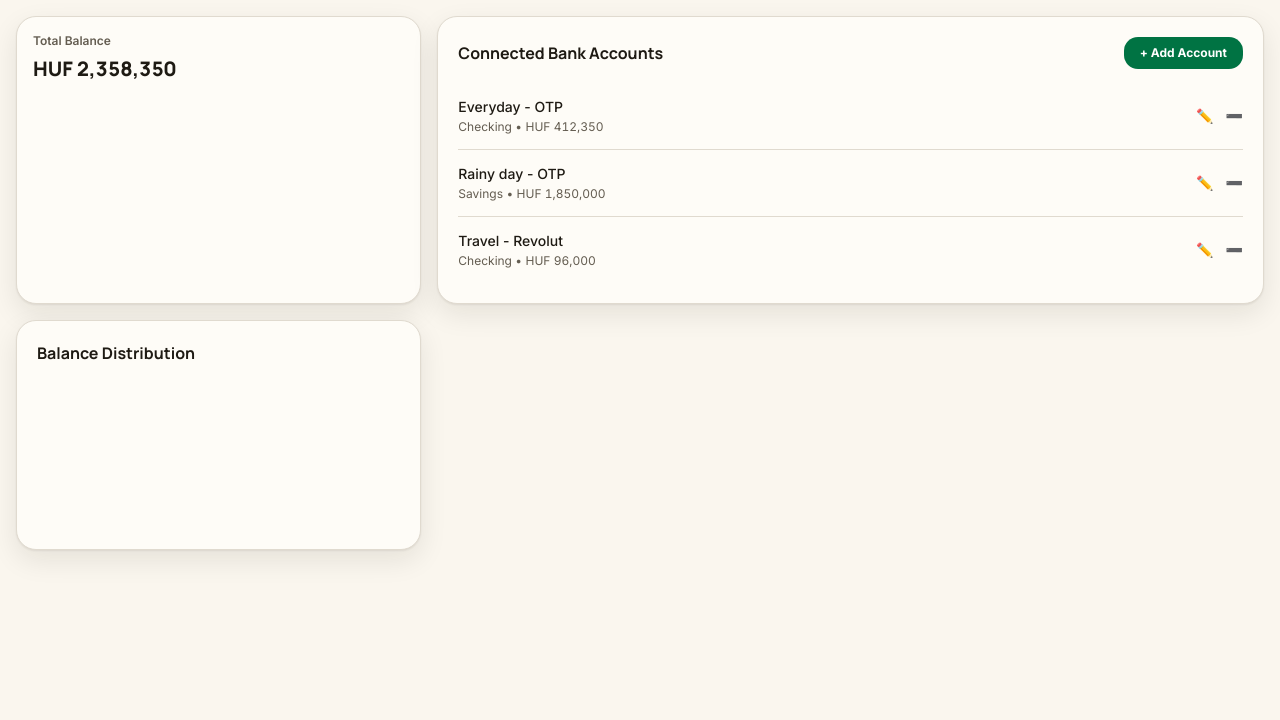
it: BankAccounts › adds an account through the modal, refetches, and closes it
Click the button "+ Add Account" at (1183, 53), box [1124,37,1243,69]
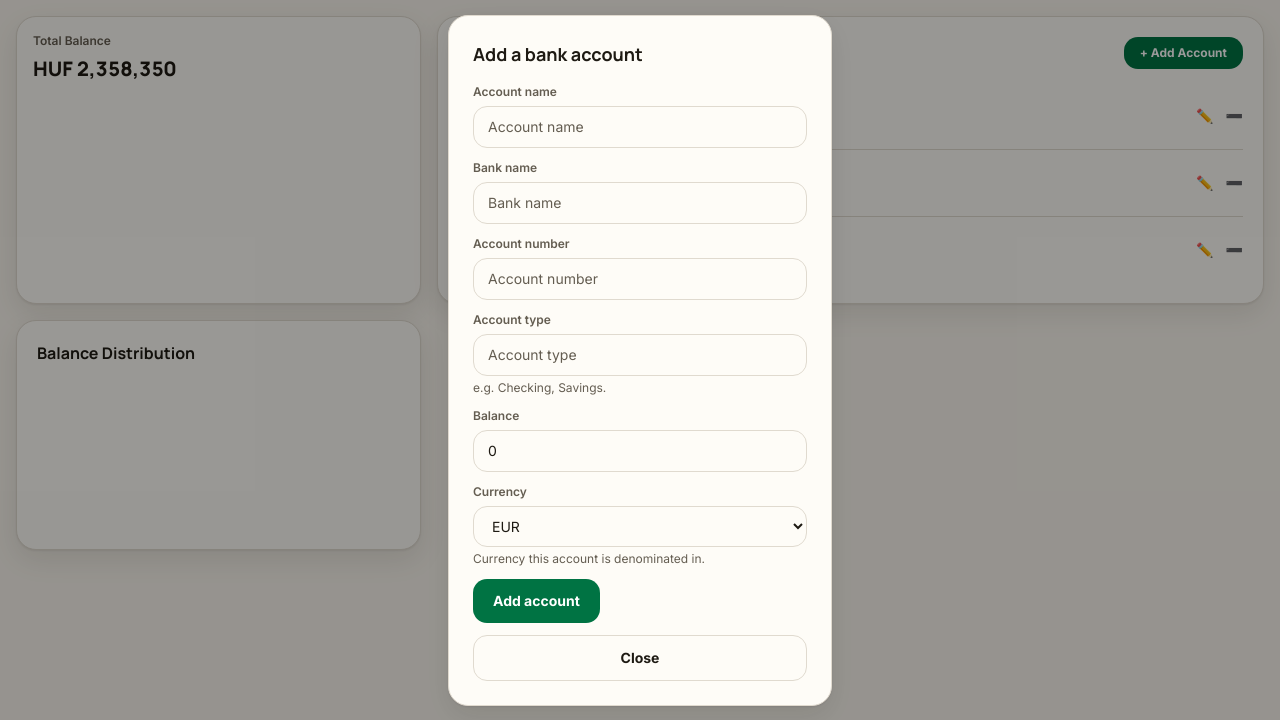
Type "New account" into the field with placeholder "Account name" at (640, 126), box [473,106,807,148]
Type "Bank" into the field with placeholder "Bank name" at (640, 202), box [473,182,807,224]
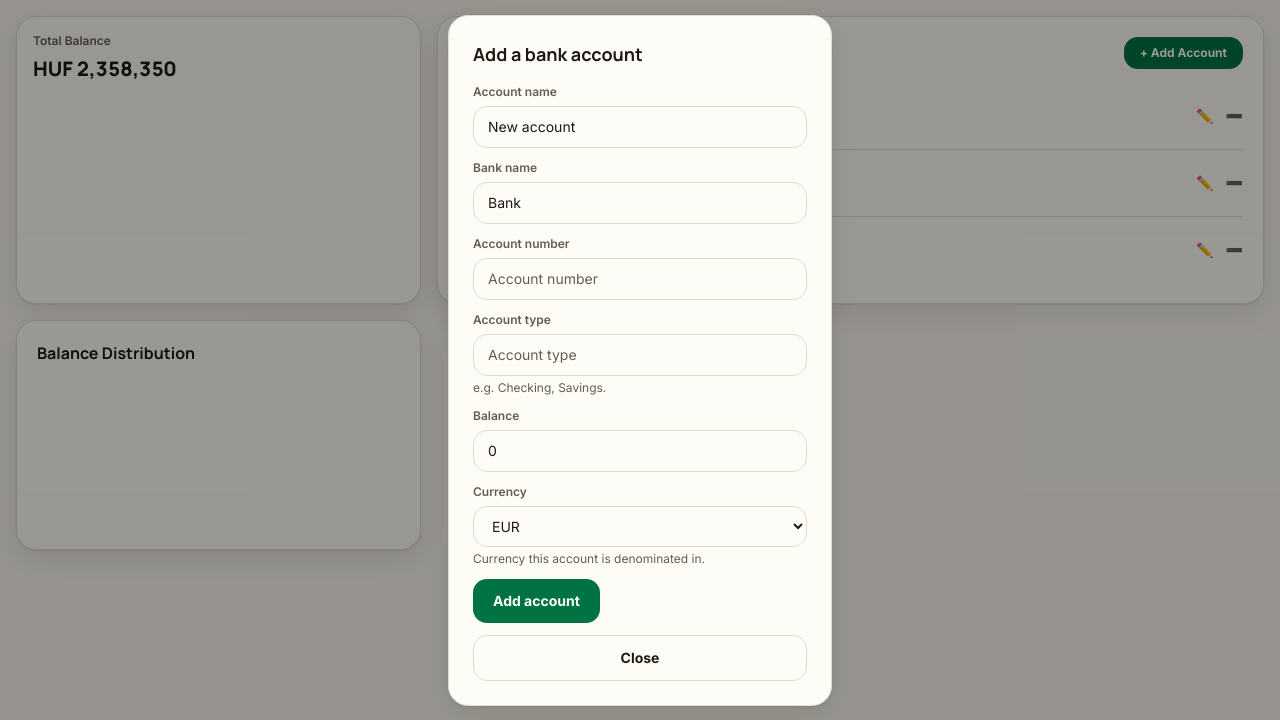
Type "123" into the field with placeholder "Account number" at (640, 278), box [473,258,807,300]
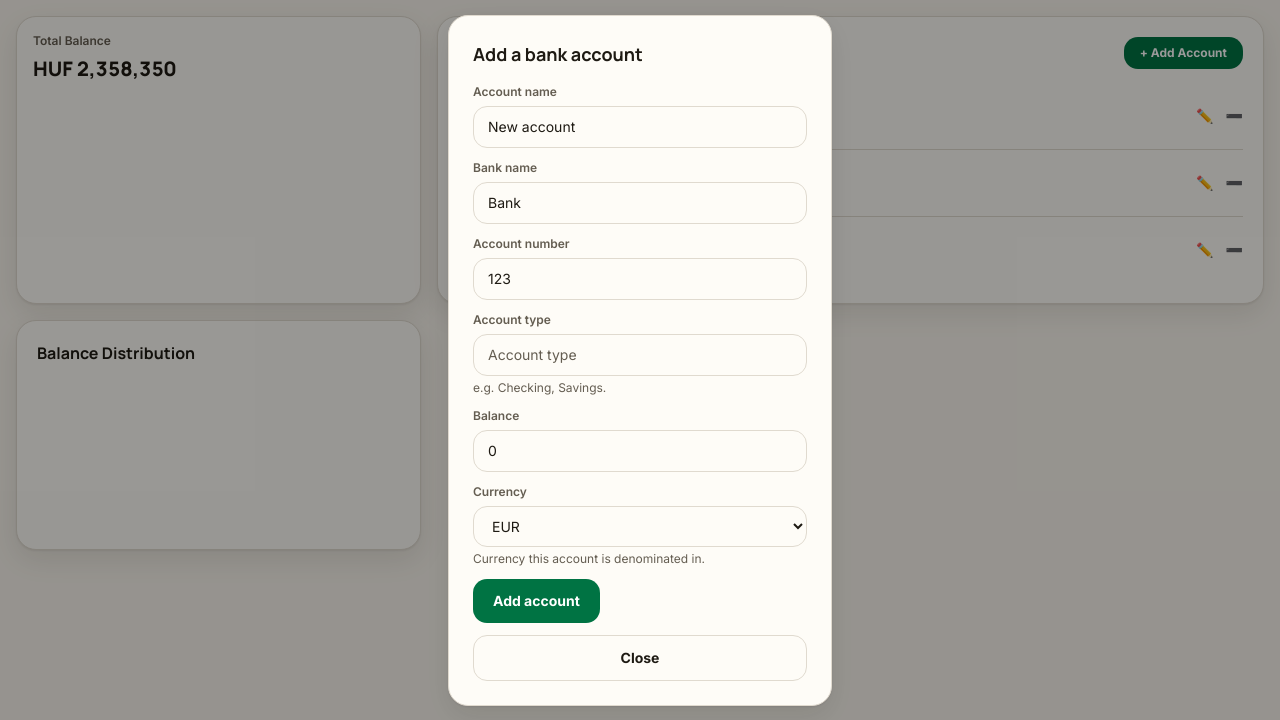
Type "Checking" into the field with placeholder "Account type" at (640, 354), box [473,334,807,376]
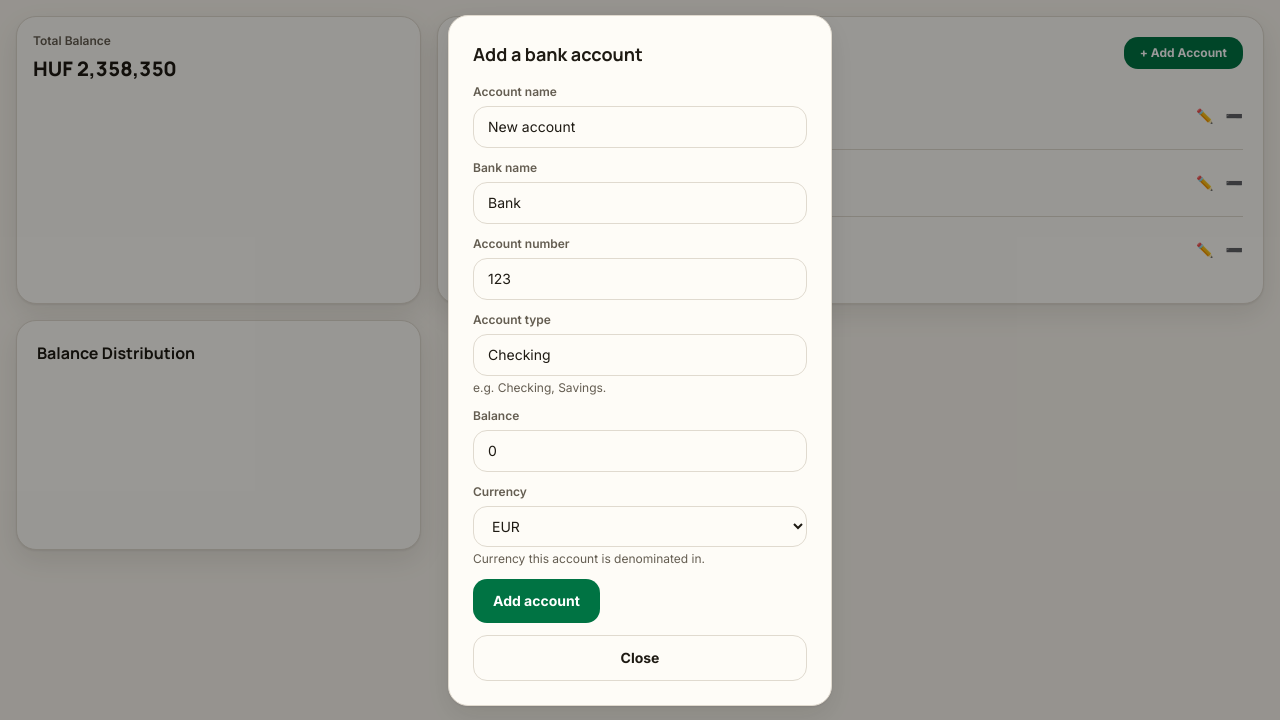
Replace the text in the number field with placeholder "Balance" with "100" at (640, 450), box [473,430,807,472]
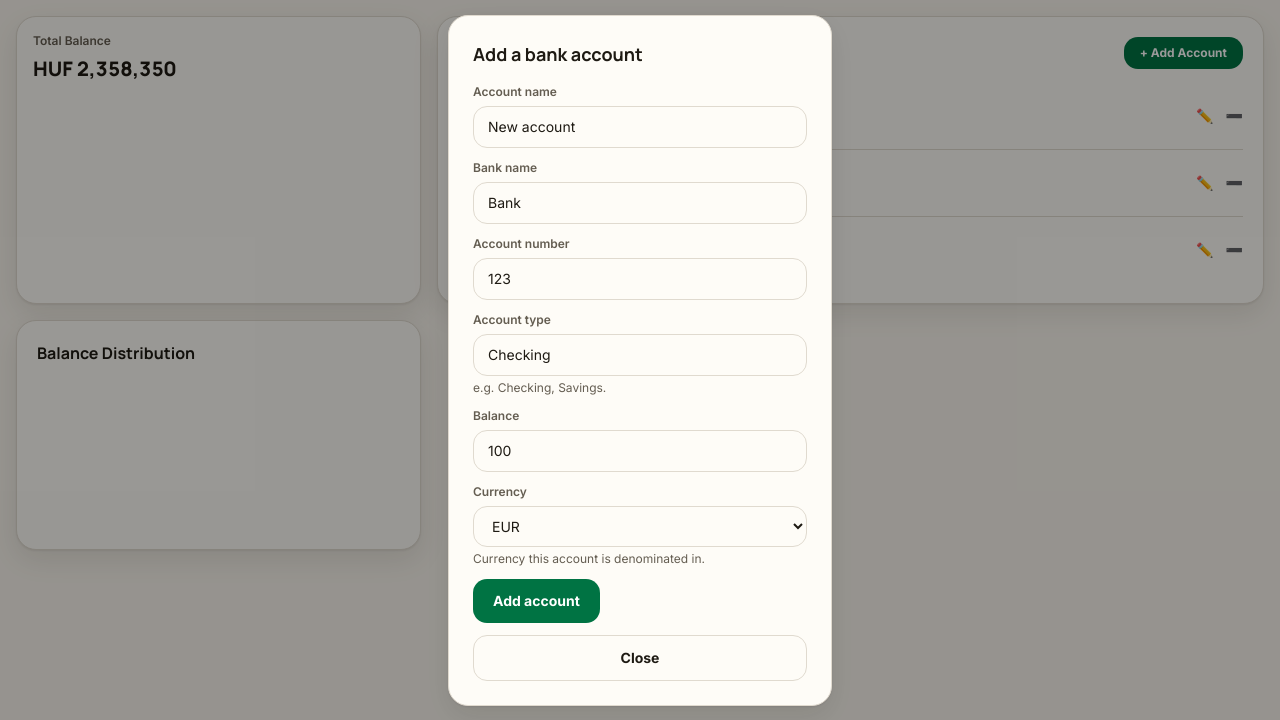
Submit the form, box [473,84,807,622]
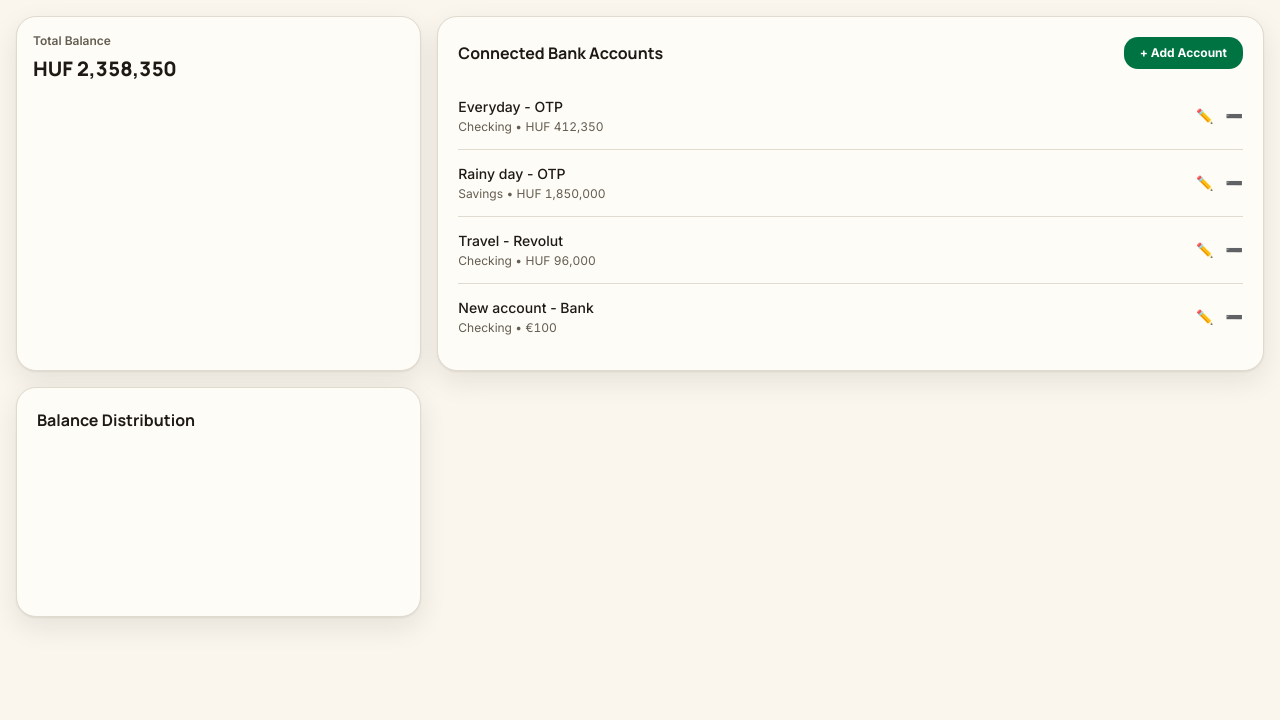
Expected: the text "Add a bank account" is gone
